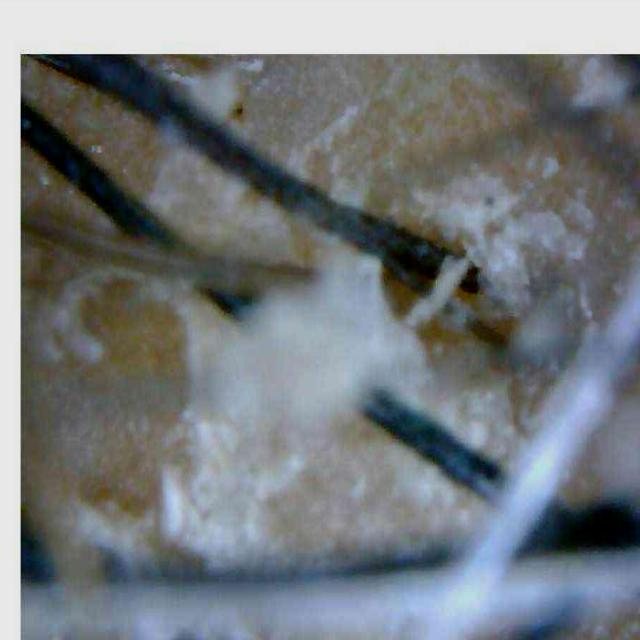d: (162, 260, 394, 560), (439, 174, 571, 306), (34, 270, 122, 365), (188, 57, 264, 122), (381, 333, 439, 413), (405, 255, 469, 327)
